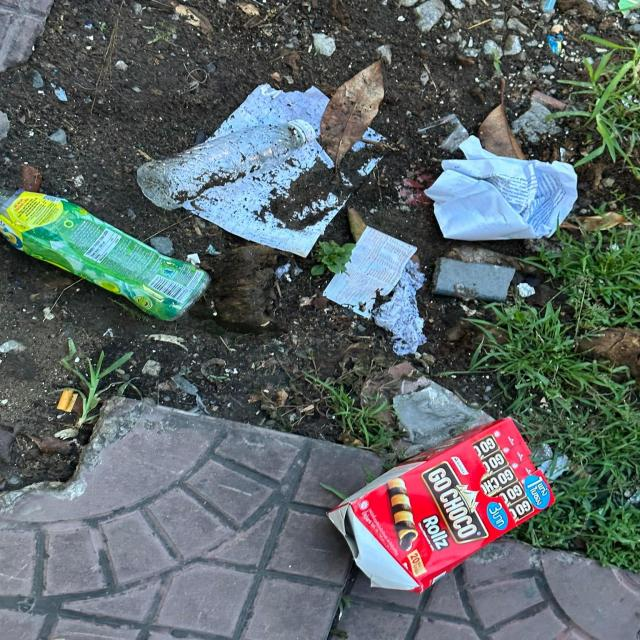bottle: (0, 189, 213, 322), (137, 118, 316, 210)
cardboard box: (325, 415, 558, 593)
paper: (424, 135, 579, 241)
